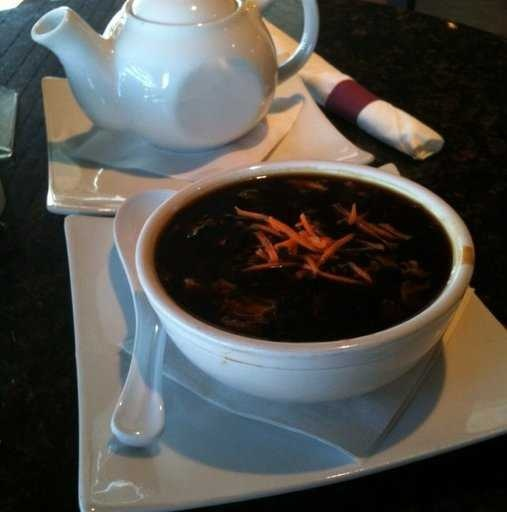soup: (128, 156, 477, 333)
